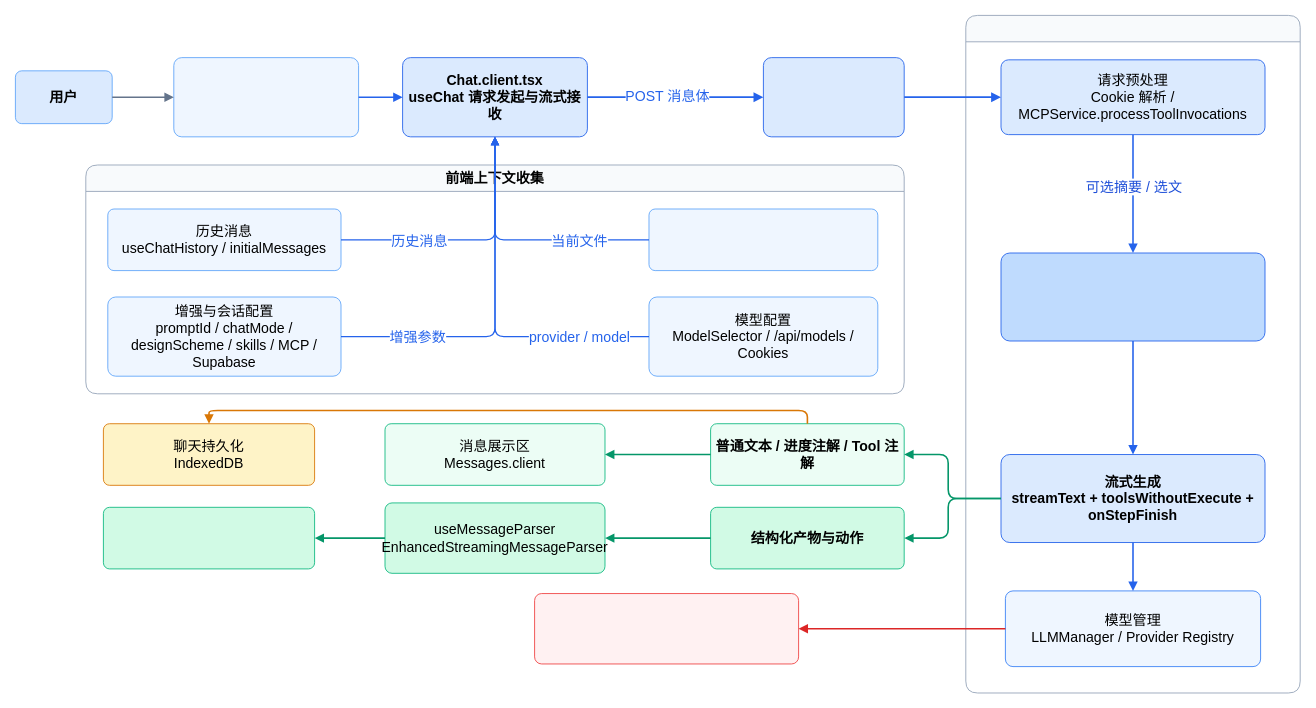
The diagram is 1316 pixels wide and 708 high, and some of its shapes have lost their labels. The box of each missing label's shape, as (x1, y1, x2, y2) in pixels:
workbenchStore: (103, 506, 315, 569)
上下文优化 getFilePaths / createSummary / selectContext: (1000, 252, 1265, 341)
当前工程文件 workbenchStore.files: (648, 208, 878, 271)
服务端生成编排: (965, 15, 1300, 693)
模型供应商 OpenAI / DeepSeek / Google 等: (534, 593, 799, 664)
聊天接口 /api/chat: (763, 57, 904, 137)
输入入口 ChatBox / 示例提示 / 语音输入: (173, 57, 359, 137)
